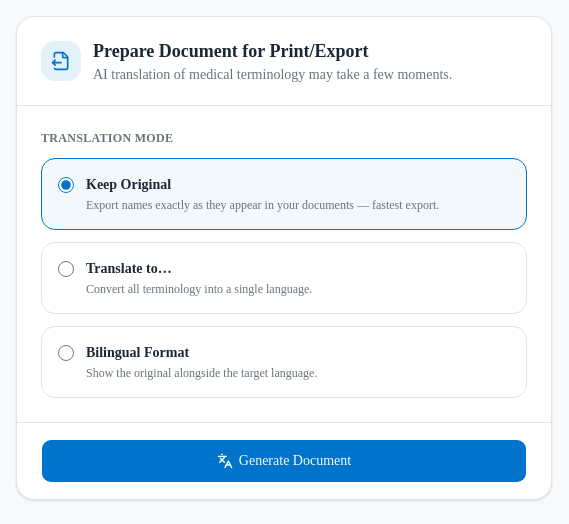
PrintSetup › shows language dropdown when translate mode is selected
This screenshot has width=569, height=524.
Click the 2nd radio button: x=66, y=269 [58,261,74,277]
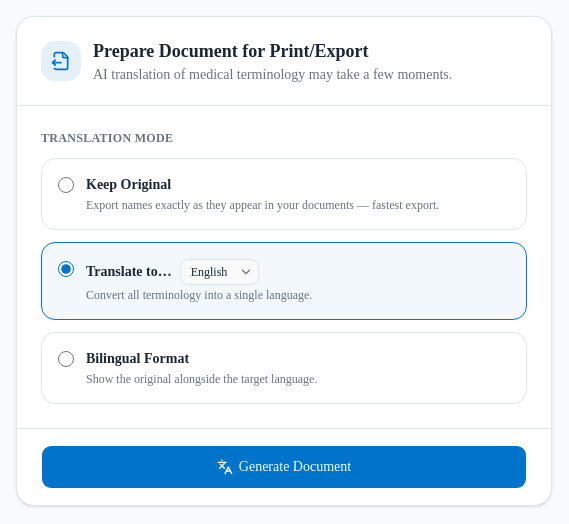
Expected: the dropdown is shown, [180,259,259,285]
